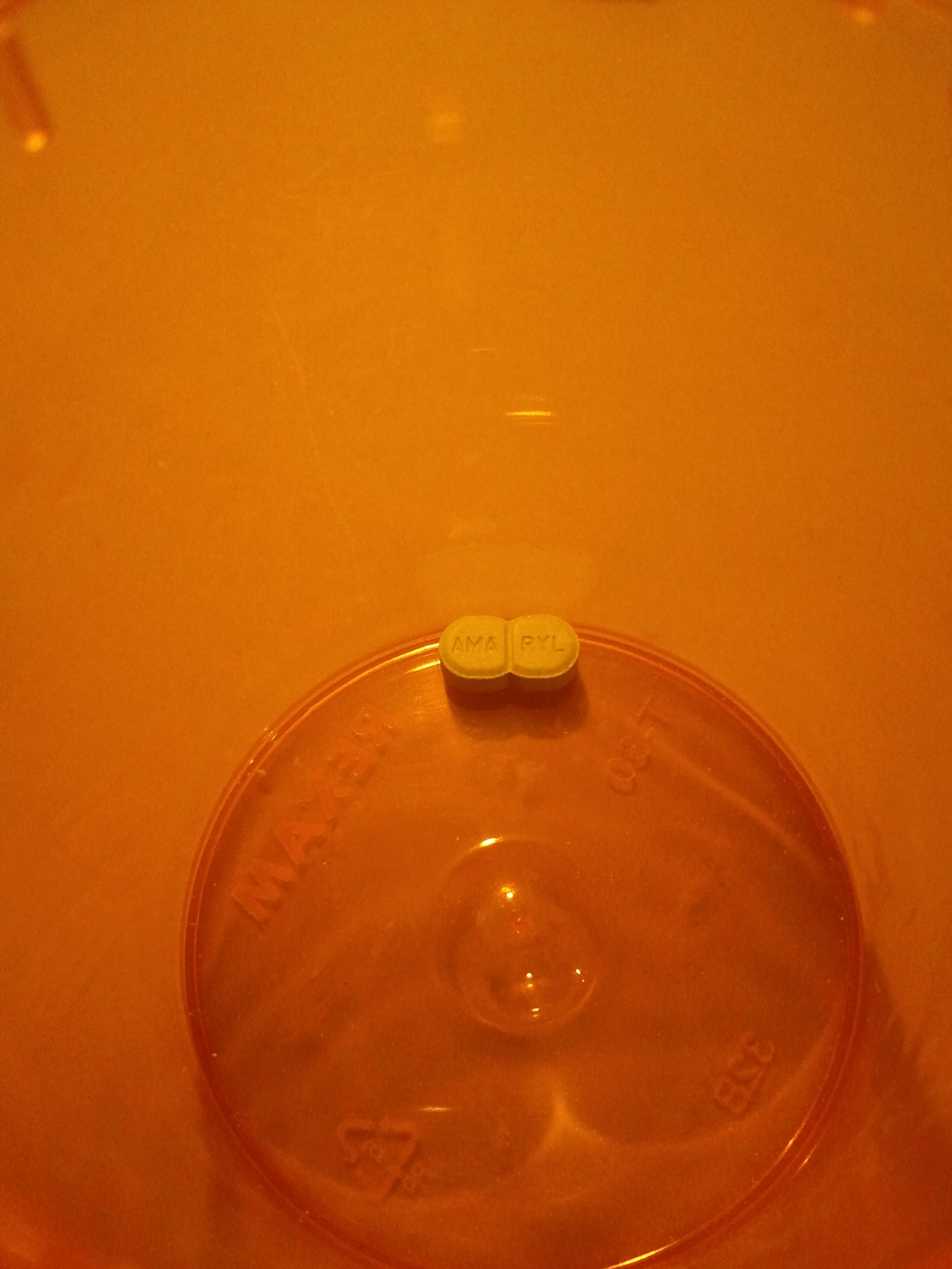Pill: (424, 602, 594, 694)
